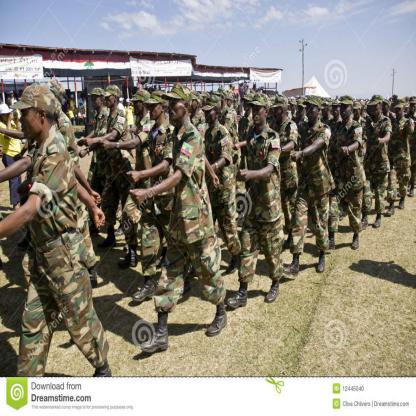face: (20, 109, 40, 138), (168, 99, 184, 122), (253, 105, 265, 126), (150, 103, 162, 121), (307, 104, 318, 122), (205, 108, 216, 124), (341, 104, 351, 121), (106, 95, 116, 108), (135, 100, 142, 115), (372, 105, 381, 116), (190, 100, 197, 113), (244, 100, 252, 111), (333, 107, 341, 118), (94, 96, 101, 108), (274, 108, 281, 120), (396, 108, 404, 118), (322, 108, 329, 118), (354, 109, 361, 119), (383, 105, 388, 115), (411, 104, 416, 114), (92, 96, 96, 106), (300, 107, 304, 117), (371, 106, 375, 116), (203, 98, 207, 107), (291, 104, 296, 111), (228, 99, 232, 106), (359, 105, 363, 112), (288, 105, 291, 111), (392, 98, 396, 102), (11, 94, 14, 99), (406, 108, 409, 113), (20, 92, 23, 96), (122, 100, 125, 104), (233, 86, 235, 92), (261, 91, 263, 95), (407, 99, 409, 102), (255, 87, 256, 91)
